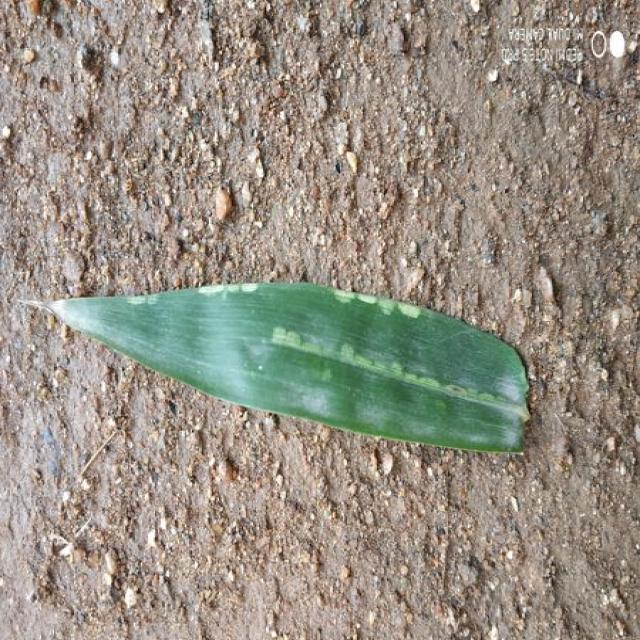Bamboo: (28, 282, 528, 452)
